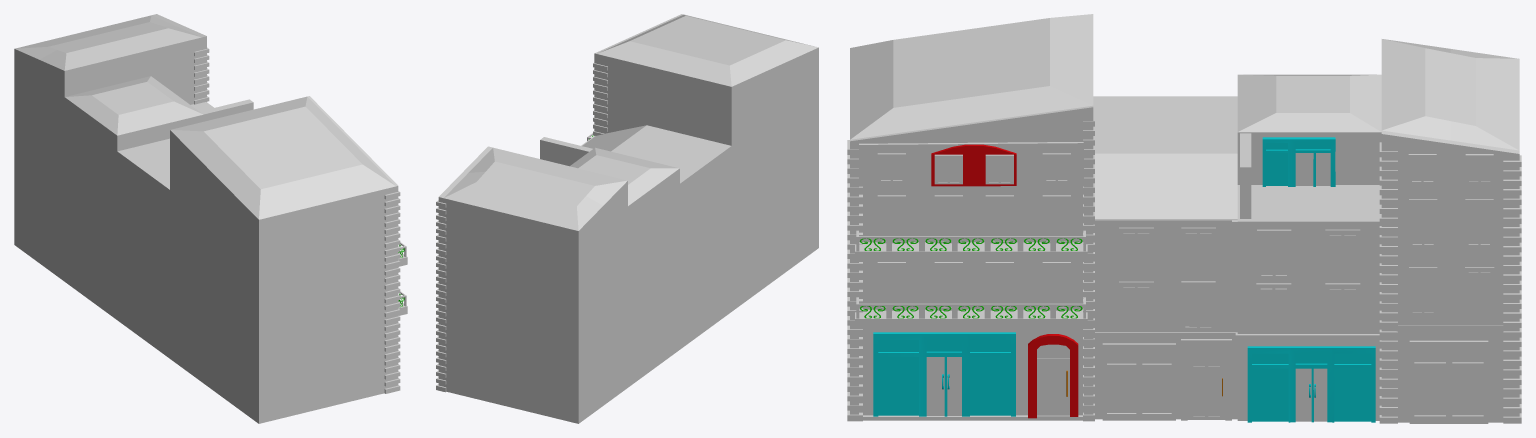
File: Bat_Canneb_4.fbx
3 views of the same model, side by side, from view 1: azimuth 30°, elevation 25°; view 2: azimuth 150°, elevation 25°; view 3: azimuth 270°, elevation 25° (orthographic). The views are drawn at different scales.
Visible parts, largest first — view 1: Bat_Canneb_4; view 2: Bat_Canneb_4; view 3: Bat_Canneb_4.
Boxes of the visible parts, x1,y1,x2,y2 form: Bat_Canneb_4: (14,14,407,423); Bat_Canneb_4: (436,14,818,423); Bat_Canneb_4: (847,14,1521,423).
Bounding box in the file's own units: 1156 × 1724 × 3280.
